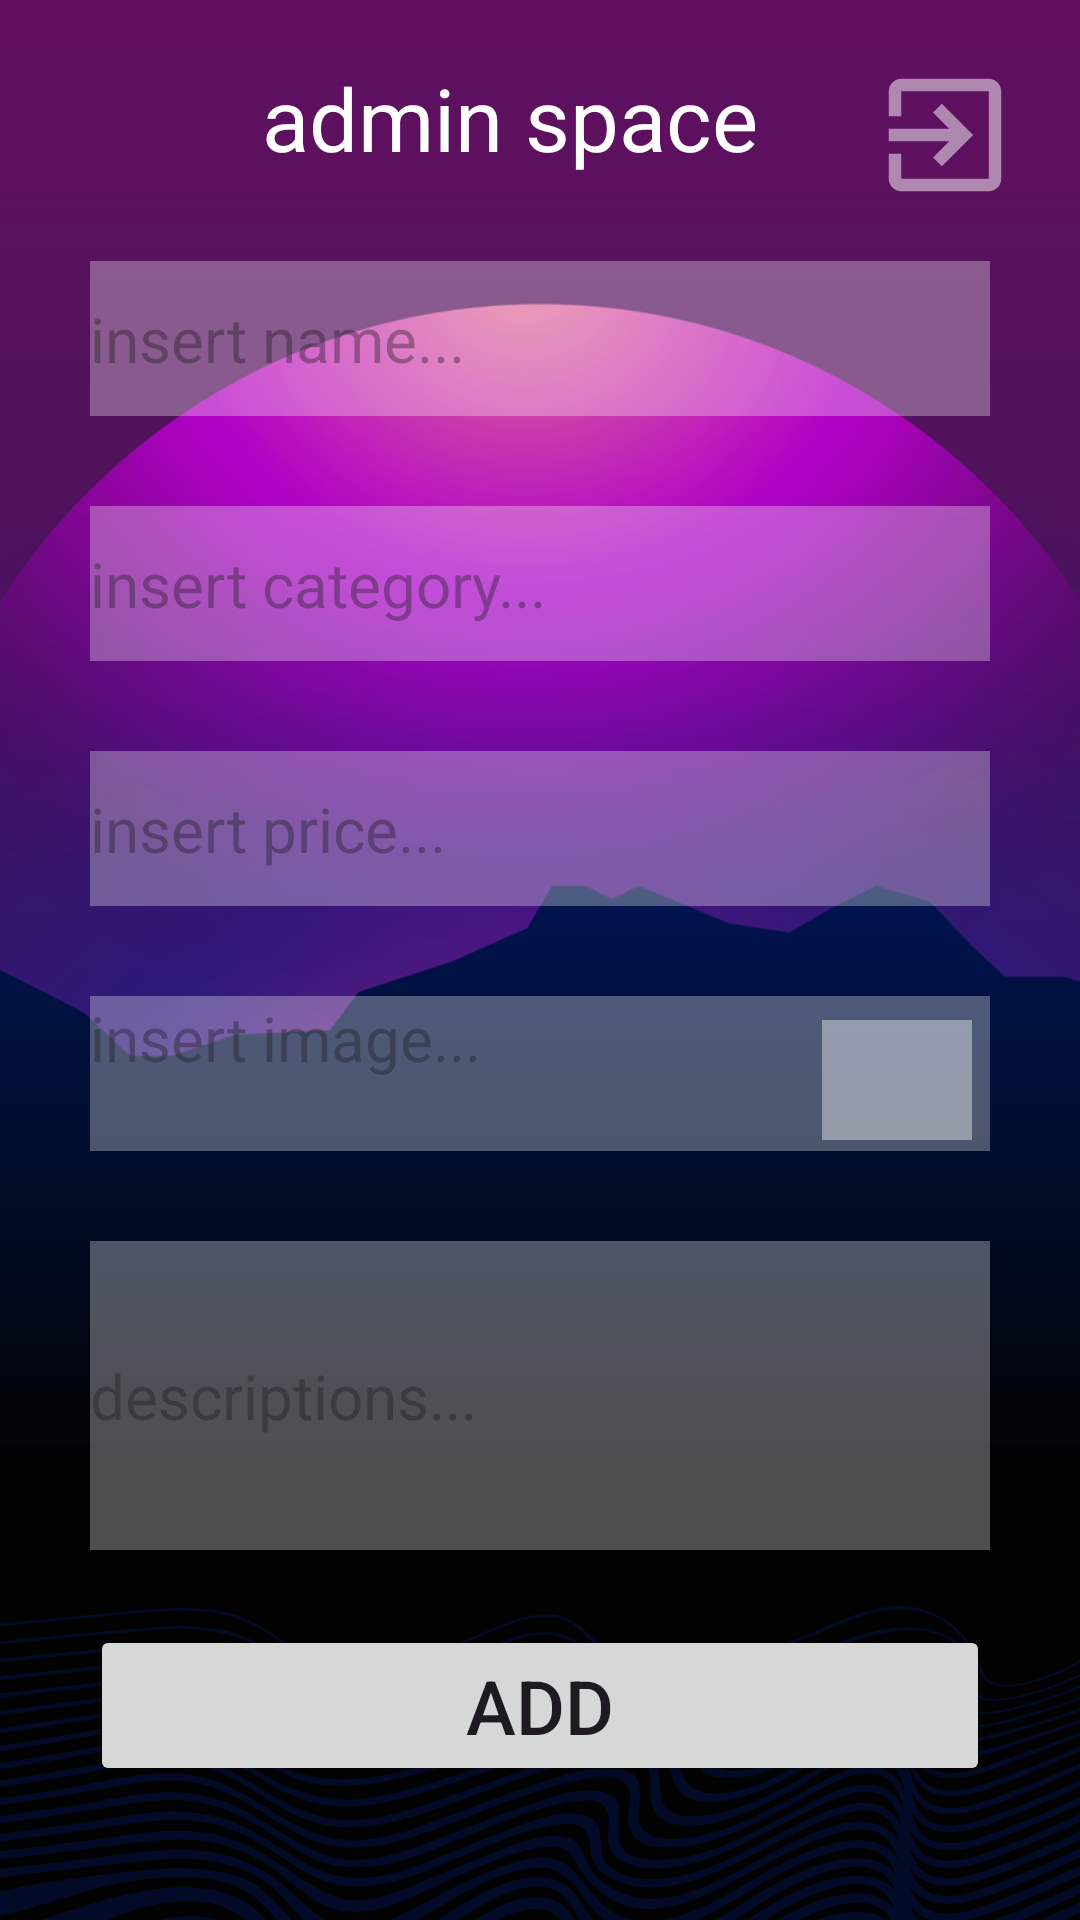

Icons on this 1080px x 1920px Android screen, each with its box as (x1, y1, x2, y2):
exit: (888, 78, 1002, 192)
